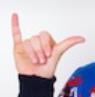clockwise: (8, 10, 87, 71)
